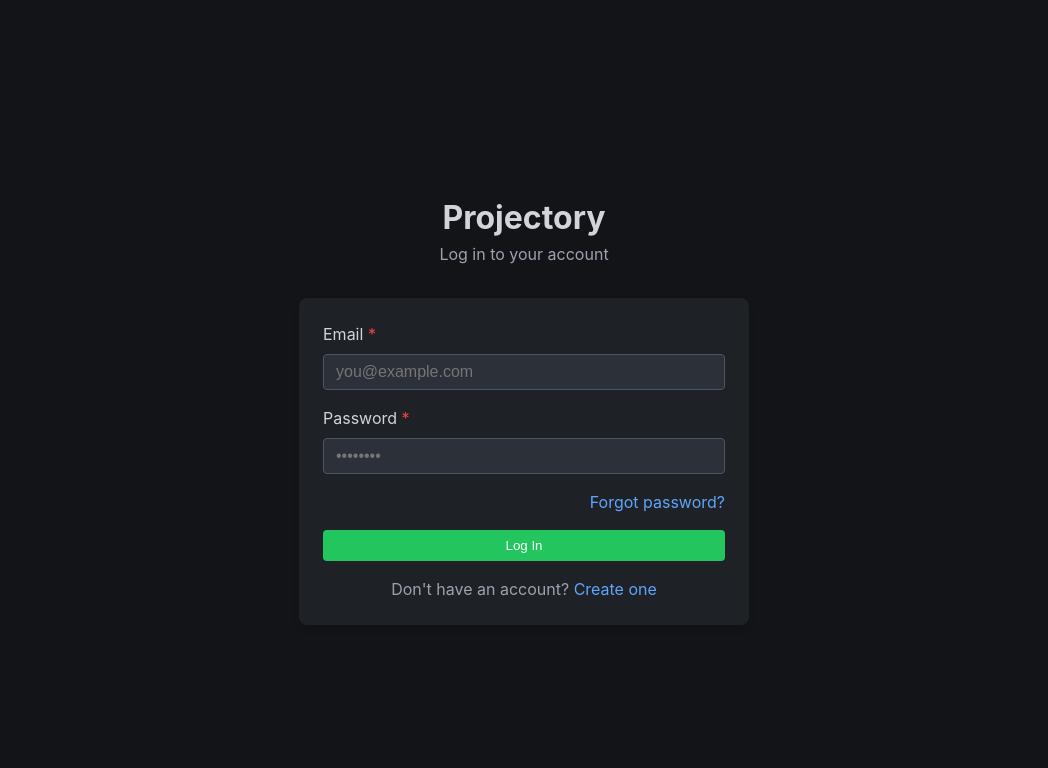
Scenario: LoginPage Component › form submission shows general error on network failure
Type "test@example.com" into the field labelled "Email *" at (524, 372), box x1=323 y1=354 x2=725 y2=390
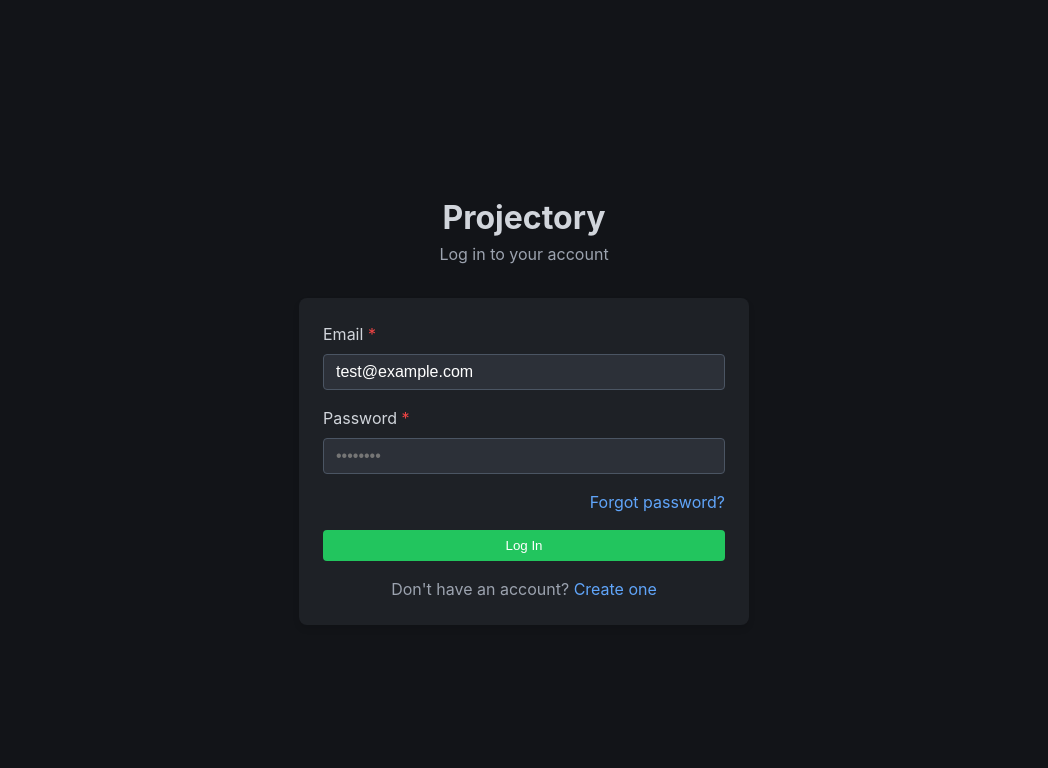
Type "password123" into the password field labelled "Password *" at (524, 456), box x1=323 y1=438 x2=725 y2=474
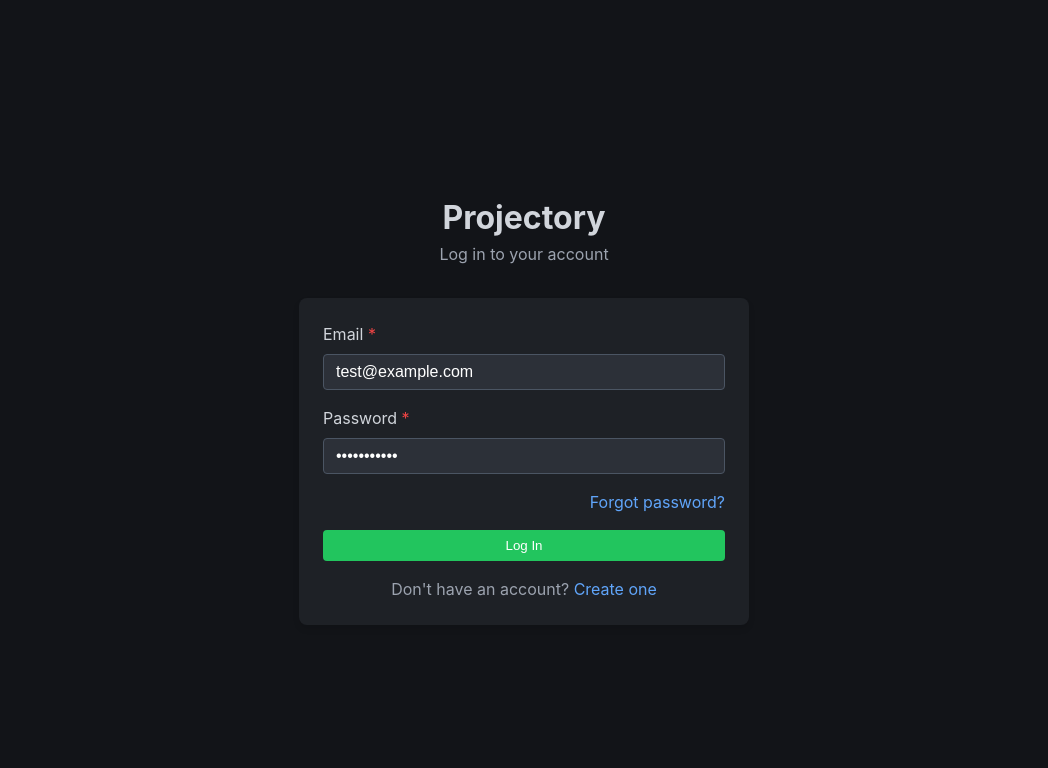
Click the button "Log In" at (524, 545), box x1=323 y1=530 x2=725 y2=560
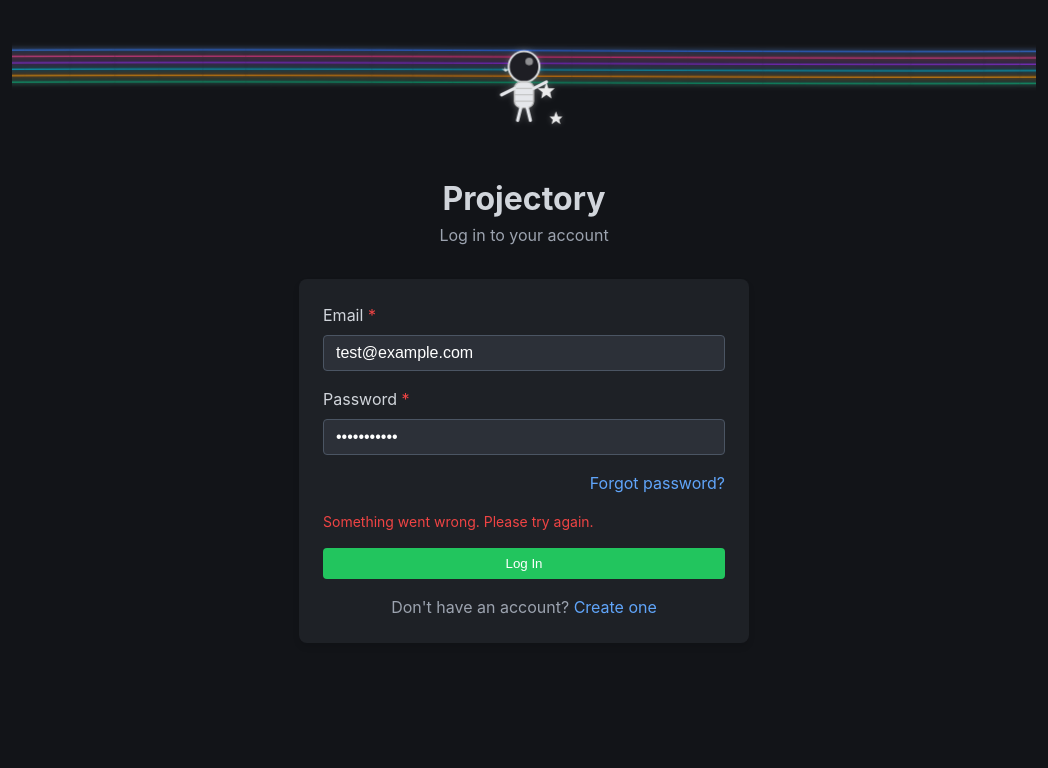
Now the text "Something went wrong. Please try again." is shown, box x1=323 y1=513 x2=594 y2=530
